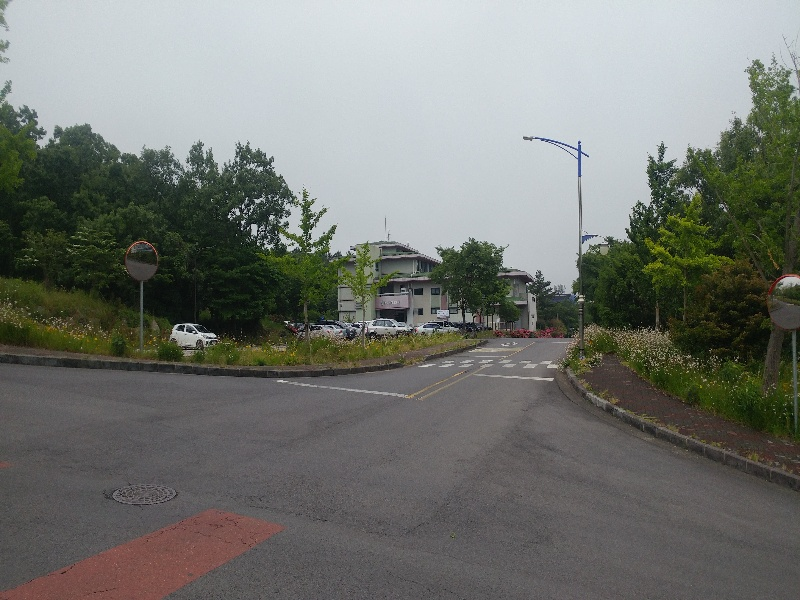College of Commerce2: (339, 237, 538, 322), (375, 250, 434, 320)
